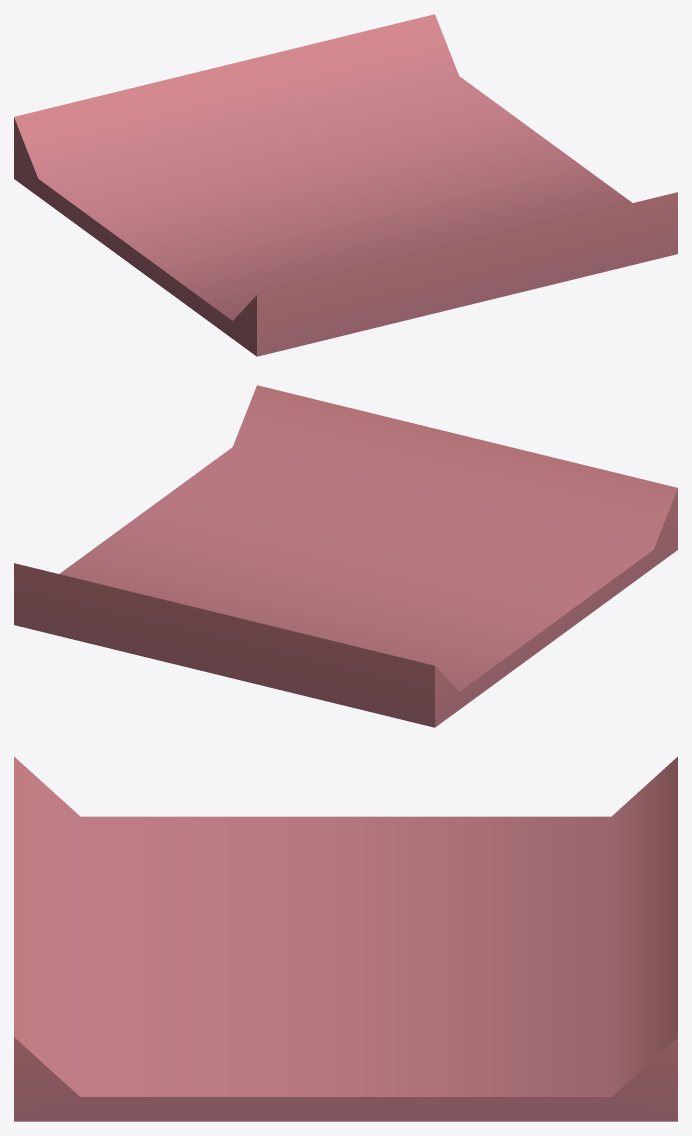
Rendered from roof-high-flat.glb.
3 renders of one model, top to bottom at view 1: azimuth 30°, elevation 25°; view 2: azimuth 150°, elevation 25°; view 3: azimuth 270°, elevation 25°, orthographic. The views are drawn at different scales.
Visible parts, largest first — view 1: roof-high-flat; view 2: roof-high-flat; view 3: roof-high-flat.
Part boxes in pixels (x1,y1,x2,y2): roof-high-flat: (14, 14, 677, 356); roof-high-flat: (14, 385, 677, 727); roof-high-flat: (14, 756, 677, 1121).
Bounding box in the file's own units: 1 × 0.1407 × 1.
